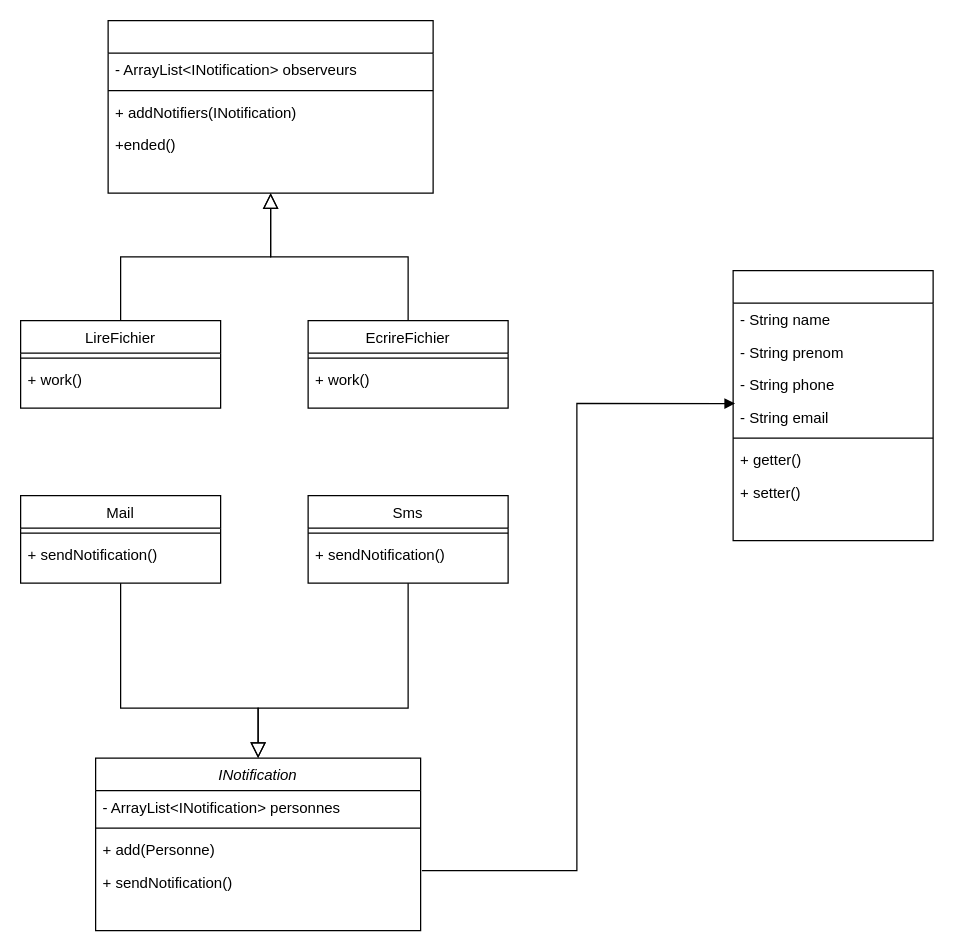
The diagram is 954 pixels wide and 951 high, and some of its shapes have lost their labels. Here are the shapes that lost their labels. From the top down, the box of each, then its label:
(107, 19, 433, 193): IProcessus
(732, 269, 933, 541): Personne
